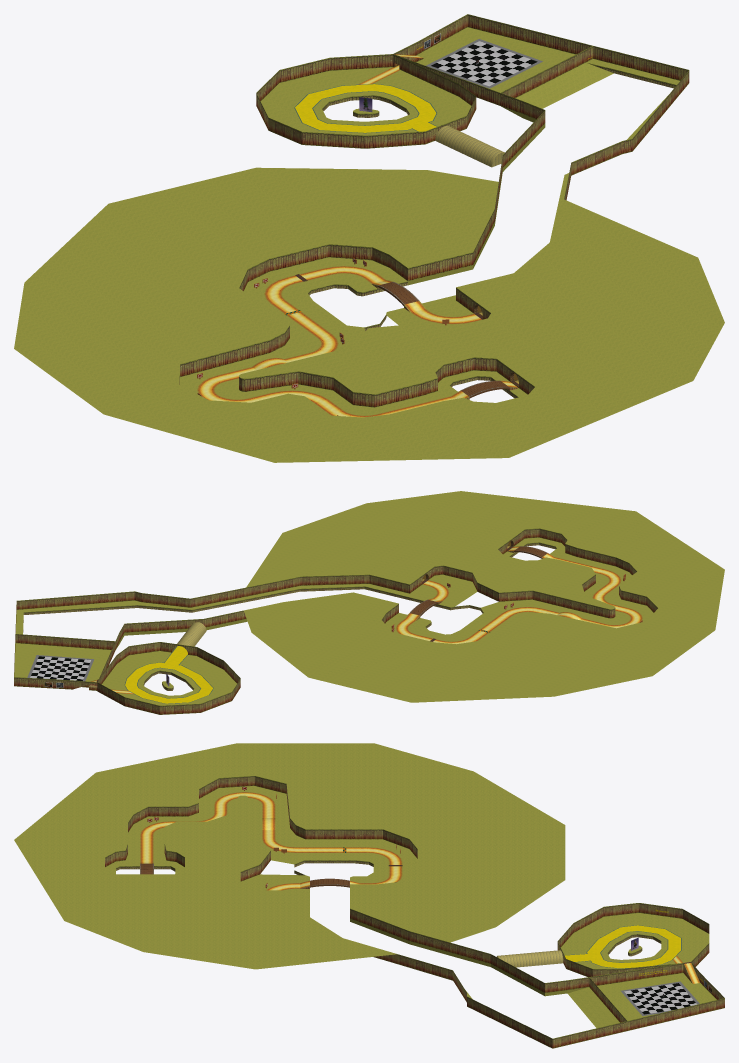
3 views of the same model, one above another, from view 1: azimuth 30°, elevation 25°; view 2: azimuth 150°, elevation 25°; view 3: azimuth 270°, elevation 25° (orthographic). The views are drawn at different scales.
Parts seen in each view (by area): view 1: Autumn_Forest_course_model_EE_Main-grass, Autumn_Forest_course_model_EE_Main-wall, Autumn_Forest_course_model_EE_Main-road, Autumn_Forest_course_model_EE_Main-roadfgd, Autumn_Forest_course_model_EE_Main-Schaakbord, Autumn_Forest_course_model_EE_Main-wallll, Autumn_Forest_course_model_EE_Main-road2; view 2: Autumn_Forest_course_model_EE_Main-grass, Autumn_Forest_course_model_EE_Main-wall, Autumn_Forest_course_model_EE_Main-road, Autumn_Forest_course_model_EE_Main-roadfgd, Autumn_Forest_course_model_EE_Main-Schaakbord, Autumn_Forest_course_model_EE_Main-wallll, Autumn_Forest_course_model_EE_Main-road2; view 3: Autumn_Forest_course_model_EE_Main-grass, Autumn_Forest_course_model_EE_Main-wall, Autumn_Forest_course_model_EE_Main-road, Autumn_Forest_course_model_EE_Main-roadfgd, Autumn_Forest_course_model_EE_Main-Schaakbord, Autumn_Forest_course_model_EE_Main-wallll.
Boxes of the visible parts, box(x1,y1,x2,y2) form: Autumn_Forest_course_model_EE_Main-grass: box(14, 27, 724, 462); Autumn_Forest_course_model_EE_Main-wall: box(179, 14, 689, 407); Autumn_Forest_course_model_EE_Main-road: box(197, 54, 518, 417); Autumn_Forest_course_model_EE_Main-roadfgd: box(295, 46, 591, 132); Autumn_Forest_course_model_EE_Main-Schaakbord: box(431, 41, 537, 86); Autumn_Forest_course_model_EE_Main-wallll: box(435, 125, 504, 167); Autumn_Forest_course_model_EE_Main-road2: box(378, 281, 508, 396); Autumn_Forest_course_model_EE_Main-grass: box(14, 491, 724, 705); Autumn_Forest_course_model_EE_Main-wall: box(14, 528, 657, 714); Autumn_Forest_course_model_EE_Main-road: box(91, 546, 642, 694); Autumn_Forest_course_model_EE_Main-roadfgd: box(125, 646, 213, 703); Autumn_Forest_course_model_EE_Main-Schaakbord: box(30, 656, 90, 680); Autumn_Forest_course_model_EE_Main-wallll: box(172, 622, 206, 651); Autumn_Forest_course_model_EE_Main-road2: box(410, 546, 547, 615); Autumn_Forest_course_model_EE_Main-grass: box(14, 743, 716, 1028); Autumn_Forest_course_model_EE_Main-wall: box(105, 776, 724, 1048); Autumn_Forest_course_model_EE_Main-road: box(140, 792, 699, 983); Autumn_Forest_course_model_EE_Main-roadfgd: box(565, 909, 703, 982); Autumn_Forest_course_model_EE_Main-Schaakbord: box(624, 983, 697, 1014); Autumn_Forest_course_model_EE_Main-wallll: box(496, 950, 563, 967).
Size of what is drawn, in the model's own units: 161520 by 3696 by 164267.
Materials: 28 (28 with a texture image).
